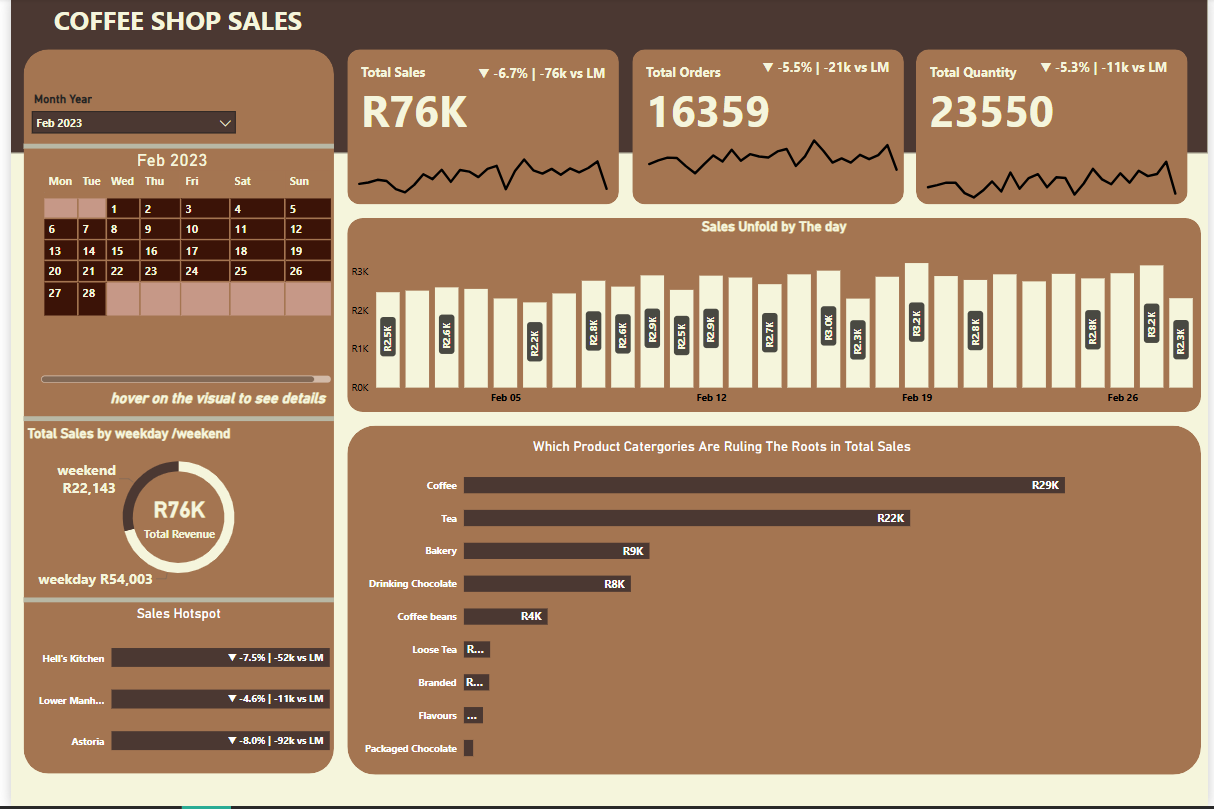

This screenshot's page, from the dashboard's own definition file:
{"tool":"powerbi","page":{"name":"Page 1","canvas":[1480,1000],"ordinal":0},"visuals":[{"type":"cardVisual","fields":{"Data":["measure_table.Total Sales"]},"box":[416,64,208,112],"z":0,"group":"g2"},{"type":"cardVisual","fields":{"Data":["measure_table.Total Orders"]},"box":[768,64,208,112],"z":0,"group":"g1"},{"type":"shape","box":[416,528,1056,432],"z":0},{"type":"cardVisual","fields":{"Data":["measure_table.Total Sales"]},"box":[1088,80,208,112],"z":1000},{"type":"lineChart","fields":{"Category":["date_table.Date Hierarchy.Date"],"Y":["measure_table.Total Orders"]},"box":[774.9,162.1,336,80],"z":1000,"group":"g1"},{"type":"lineChart","fields":{"Category":["date_table.Date Hierarchy.Date"],"Y":["measure_table.Total Sales"]},"box":[416,176,336,80],"z":1000,"group":"g2"},{"type":"shape","box":[-8,0,1488,192],"z":2000},{"type":"card","fields":{"Values":["measure_table.Mom Growth & Diff orders"]},"box":[912,64,192,48],"z":2000,"group":"g2"},{"type":"shape","box":[16,64,384,896],"z":3000},{"type":"shape","box":[416,64,336,192],"z":4000},{"type":"shape","box":[768,64,336,192],"z":5000},{"type":"textbox","box":[48,0,480,64],"z":6000},{"type":"slicer","fields":{"Values":["date_table.Month Year"]},"box":[16,112,272,80],"z":7000},{"type":"group","id":"g1","title":"Group 2","box":[768,64,336,176],"z":8000},{"type":"group","id":"g2","title":"Group 2","box":[416,64,688,192],"z":9000},{"type":"shape","box":[1120,64,336,192],"z":10000},{"type":"card","fields":{"Values":["measure_table.Mom Growth & Diff Sales"]},"box":[528,64,256,64],"z":11000},{"type":"group","id":"g3","title":"Group 3","box":[1120,64,336,192],"z":12000},{"type":"pivotTable","fields":{"Rows":["date_table.Week Number"],"Columns":["date_table.Day Name"],"Values":["Min(date_table.Day Number)"]},"box":[32,208,368,272],"z":13000},{"type":"card","fields":{"Values":["Min(date_table.Month Year)"]},"box":[144,176,112,48],"z":14000},{"type":"cardVisual","fields":{"Data":["measure_table.Total Quantity sold"]},"box":[1120,64,208,112],"z":15000,"group":"g3"},{"type":"card","fields":{"Values":["measure_table.Foot Note"]},"box":[48,432,416,128],"z":15000},{"type":"lineChart","fields":{"Category":["date_table.Date Hierarchy.Date"],"Y":["measure_table.Total Quantity"]},"box":[1120,176,336,80],"z":16000,"group":"g3"},{"type":"shape","box":[16,496,384,48],"z":16000},{"type":"shape","box":[16,160,384,48],"z":17000},{"type":"card","fields":{"Values":["measure_table.Mom Growth & Diff quantity"]},"box":[1248,64,208,48],"z":18000,"group":"g3"},{"type":"donutChart","fields":{"Category":["date_table.weekday /weekend"],"Y":["measure_table.Total Sales"]},"box":[16,528,384,208],"z":18000},{"type":"card","fields":{"Values":["measure_table.Total Sales"]},"box":[128,544,160,192],"z":19000},{"type":"shape","box":[16,720,384,48],"z":20000},{"type":"hundredPercentStackedBarChart","title":"Sales Hotspot","fields":{"Y":["measure_table.placeholder","measure_table.Total Sales"],"Category":["Coffee.store_location"]},"box":[16,752,384,208],"z":21000},{"type":"shape","box":[416,272,1056,240],"z":22000},{"type":"lineClusteredColumnComboChart","title":"Sales Unfold by The day","fields":{"Category":["Coffee.transaction_date"],"Y":["measure_table.Total Sales"]},"box":[416,272,1056,240],"z":23000},{"type":"barChart","title":"Which Product Catergories Are Ruling The Roots in Total Sales","fields":{"Y":["measure_table.placeholder","measure_table.Total Sales"],"Category":["Coffee.product_category"]},"box":[432,544,896,416],"z":24000}]}

Visuals, with their boxes in screenshot pixels (x1, y1, x2, y2), scaled from the page's 1480x1000 canvas onto the 1214x809 screenshot:
cardVisual - measure_table.Total Sales: locate(341, 52, 512, 142)
cardVisual - measure_table.Total Orders: locate(630, 52, 801, 142)
shape: locate(341, 427, 1207, 777)
cardVisual - measure_table.Total Sales: locate(892, 65, 1063, 155)
lineChart - date_table.Date Hierarchy.Date x measure_table.Total Orders: locate(636, 131, 911, 196)
lineChart - date_table.Date Hierarchy.Date x measure_table.Total Sales: locate(341, 142, 617, 207)
shape: locate(0, 0, 1213, 155)
card - measure_table.Mom Growth & Diff orders: locate(748, 52, 906, 91)
shape: locate(13, 52, 328, 777)
shape: locate(341, 52, 617, 207)
shape: locate(630, 52, 906, 207)
textbox: locate(39, 0, 433, 52)
slicer - date_table.Month Year: locate(13, 91, 236, 155)
"Group 2" group: locate(630, 52, 906, 194)
"Group 2" group: locate(341, 52, 906, 207)
shape: locate(919, 52, 1194, 207)
card - measure_table.Mom Growth & Diff Sales: locate(433, 52, 643, 104)
"Group 3" group: locate(919, 52, 1194, 207)
pivotTable - date_table.Week Number x date_table.Day Name: locate(26, 168, 328, 388)
card - Min(date_table.Month Year): locate(118, 142, 210, 181)
cardVisual - measure_table.Total Quantity sold: locate(919, 52, 1089, 142)
card - measure_table.Foot Note: locate(39, 349, 381, 453)
lineChart - date_table.Date Hierarchy.Date x measure_table.Total Quantity: locate(919, 142, 1194, 207)
shape: locate(13, 401, 328, 440)
shape: locate(13, 129, 328, 168)
card - measure_table.Mom Growth & Diff quantity: locate(1024, 52, 1194, 91)
donutChart - date_table.weekday /weekend x measure_table.Total Sales: locate(13, 427, 328, 595)
card - measure_table.Total Sales: locate(105, 440, 236, 595)
shape: locate(13, 582, 328, 621)
"Sales Hotspot" hundredPercentStackedBarChart: locate(13, 608, 328, 777)
shape: locate(341, 220, 1207, 414)
"Sales Unfold by The day" lineClusteredColumnComboChart: locate(341, 220, 1207, 414)
"Which Product Catergories Are Ruling The Roots in Total Sales" barChart: locate(354, 440, 1089, 777)
